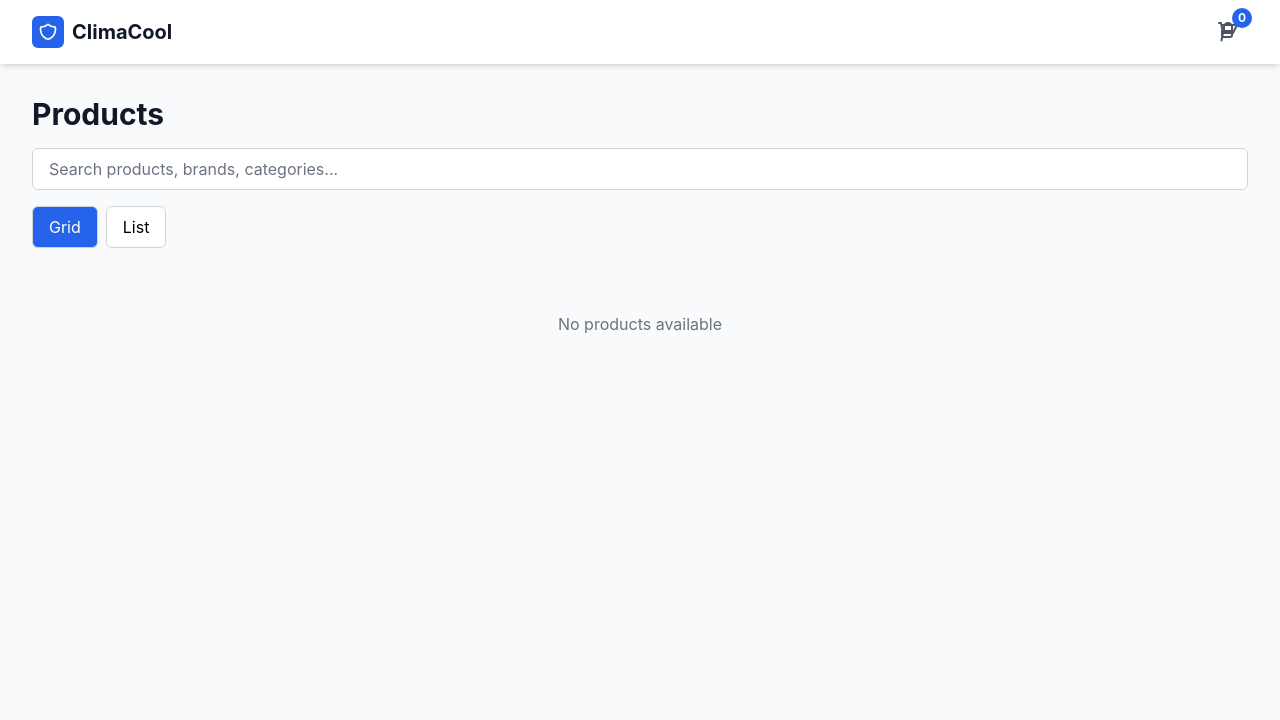
Test case: Main Layout E2E Tests › Cart Sidebar › should close cart sidebar when close button is clicked
Click the button with test id "cart-icon-button" at (1228,32), box top-left (1208, 12), bottom-right (1248, 52)
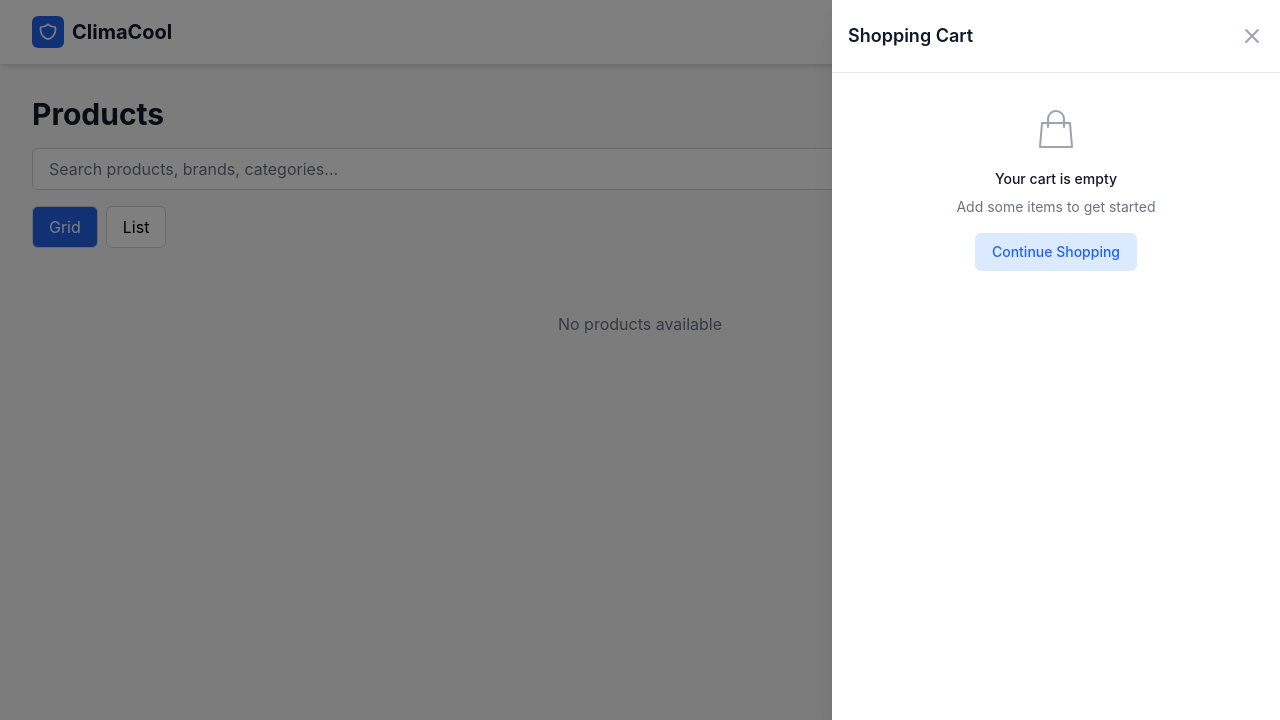
Expected: the element with test id "cart-sidebar" is shown, top-left (832, 0), bottom-right (1279, 719)
Click the button with test id "close-cart" at (1252,36), box top-left (1232, 16), bottom-right (1272, 56)
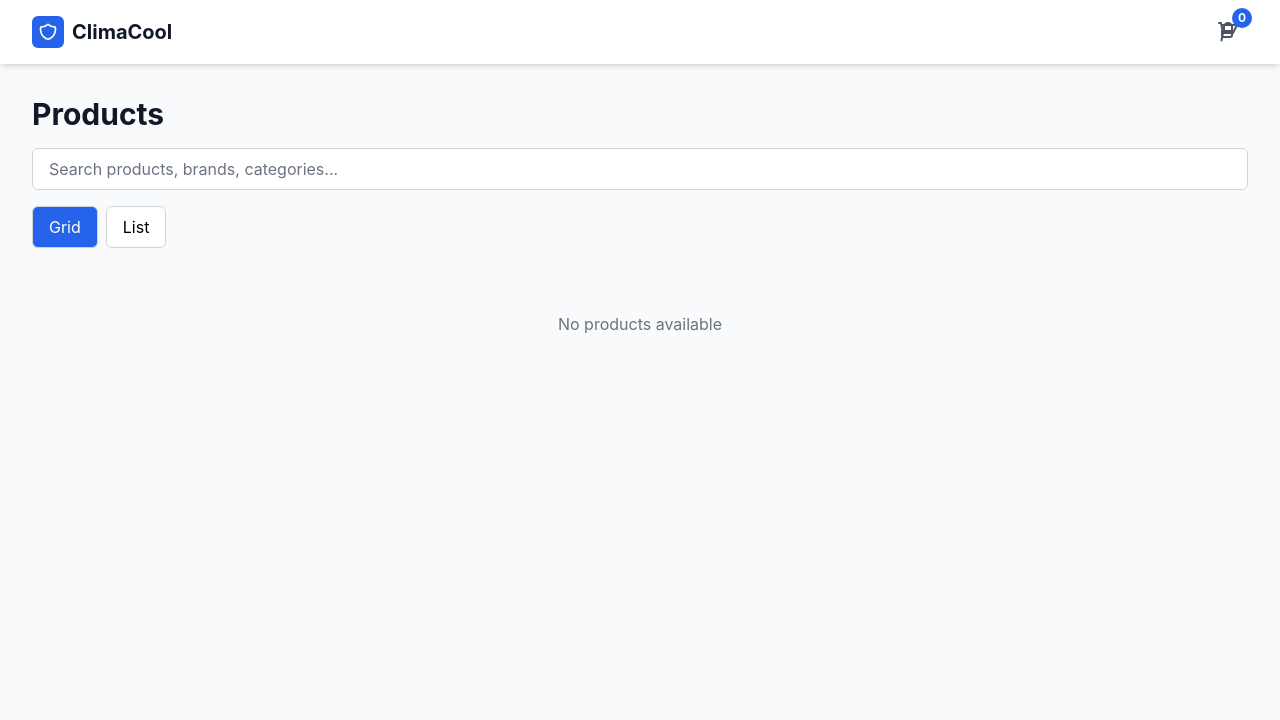
Expected: the element with test id "cart-sidebar" is gone
Expected: the element with test id "cart-overlay" is gone
